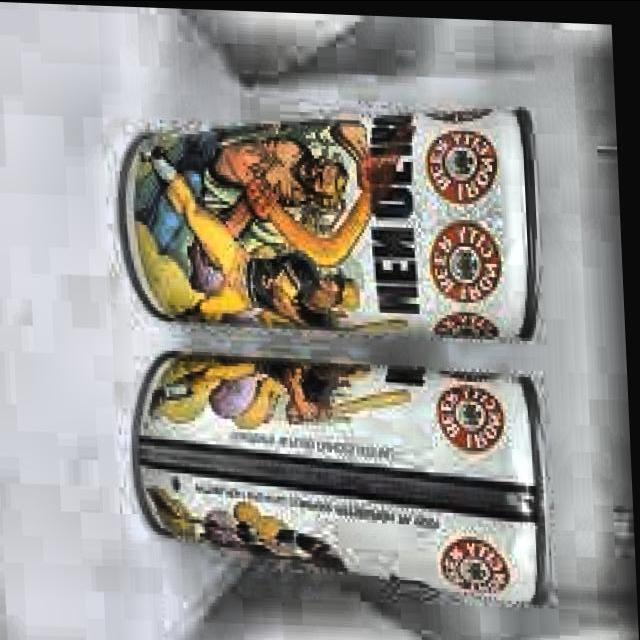litter: (115, 88, 560, 346), (128, 340, 558, 606)
